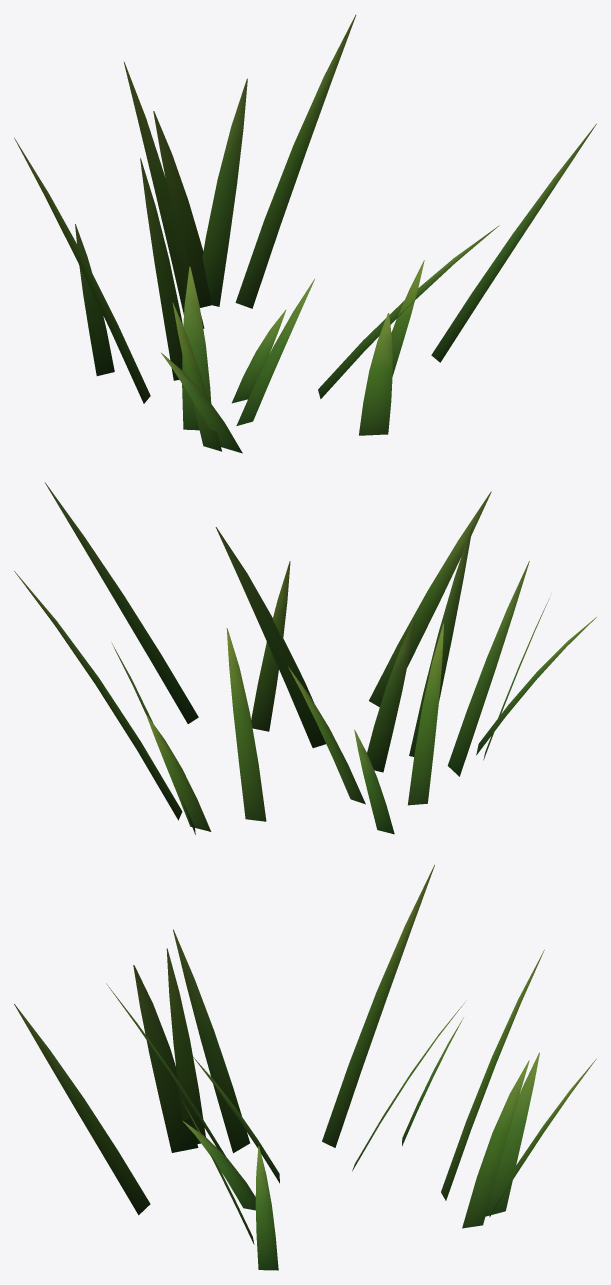
Rendered from grass-short.glb.
The picture shows the model from 3 angles, top to bottom: view 1: azimuth 30°, elevation 25°; view 2: azimuth 150°, elevation 25°; view 3: azimuth 270°, elevation 25°; orthographic projection.
Visible parts, largest first — view 1: Grass_Short; view 2: Grass_Short; view 3: Grass_Short.
Boxes of the visible parts, box(x1,y1,x2,y2) form: Grass_Short: box(14, 14, 596, 453); Grass_Short: box(14, 482, 596, 834); Grass_Short: box(14, 864, 596, 1270).
Size of the model in its own units: 0.4108 by 0.1911 by 0.418.
